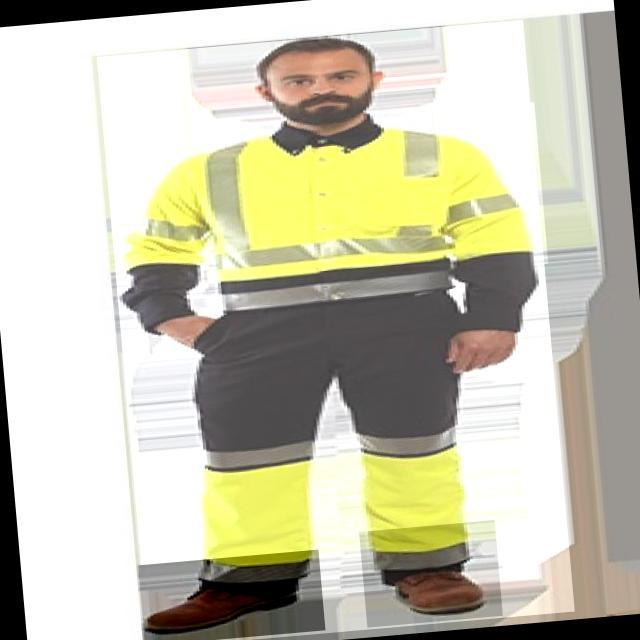Person: (92, 19, 561, 640)
Safety Boot: (138, 549, 325, 640), (359, 520, 503, 628)
Safety Vest: (166, 102, 549, 296)
bare-arms: (444, 312, 524, 391)
no-helmet: (250, 32, 392, 82)
